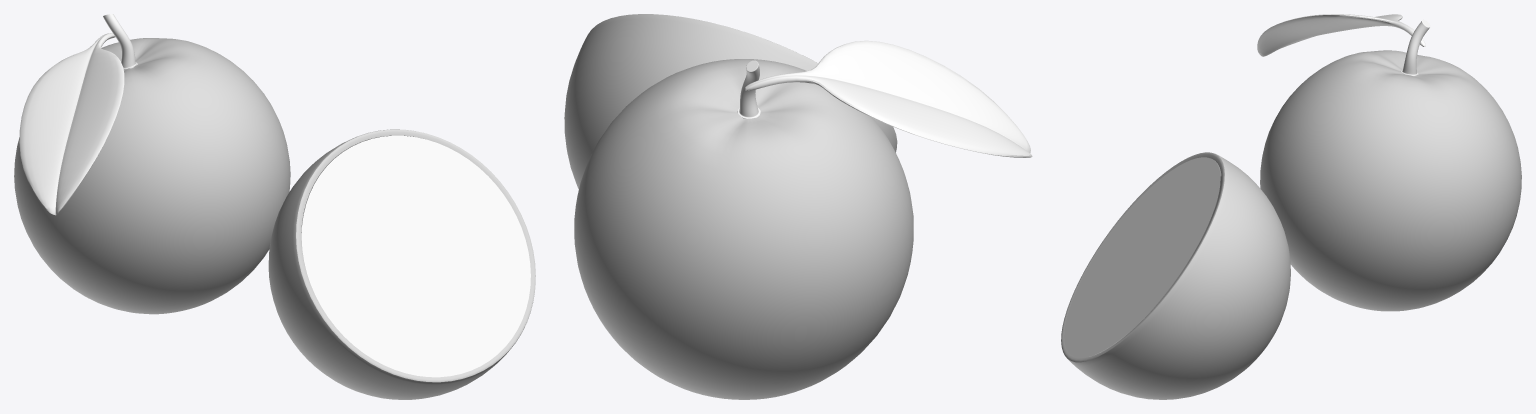
The model's file is Orange.glb.
3 renders of one model, left to right at view 1: azimuth 30°, elevation 25°; view 2: azimuth 150°, elevation 25°; view 3: azimuth 270°, elevation 25°, orthographic. The views are drawn at different scales.
Visible parts, largest first — view 1: Sphere.008, Sphere.181, Sphere.180, Plane.002, Cylinder.004; view 2: Sphere.008, Sphere.180, Plane.002, Cylinder.004; view 3: Sphere.008, Sphere.180, Sphere.181, Plane.002, Cylinder.004.
Part boxes in pixels (left/top/right/bottom): Sphere.008: left=14, top=38, right=290, bottom=314; Sphere.181: left=301, top=135, right=530, bottom=377; Sphere.180: left=268, top=129, right=535, bottom=399; Plane.002: left=19, top=33, right=124, bottom=215; Cylinder.004: left=103, top=14, right=137, bottom=69; Sphere.008: left=574, top=59, right=913, bottom=399; Sphere.180: left=564, top=14, right=897, bottom=189; Plane.002: left=744, top=40, right=1032, bottom=157; Cylinder.004: left=737, top=60, right=760, bottom=118; Sphere.008: left=1260, top=50, right=1521, bottom=311; Sphere.180: left=1061, top=152, right=1290, bottom=399; Sphere.181: left=1064, top=157, right=1220, bottom=357; Plane.002: left=1257, top=14, right=1425, bottom=56; Cylinder.004: left=1401, top=20, right=1430, bottom=76.
Size of the model in its own units: 6.69 by 4.74 by 6.72.
4 materials, 1 textured.
